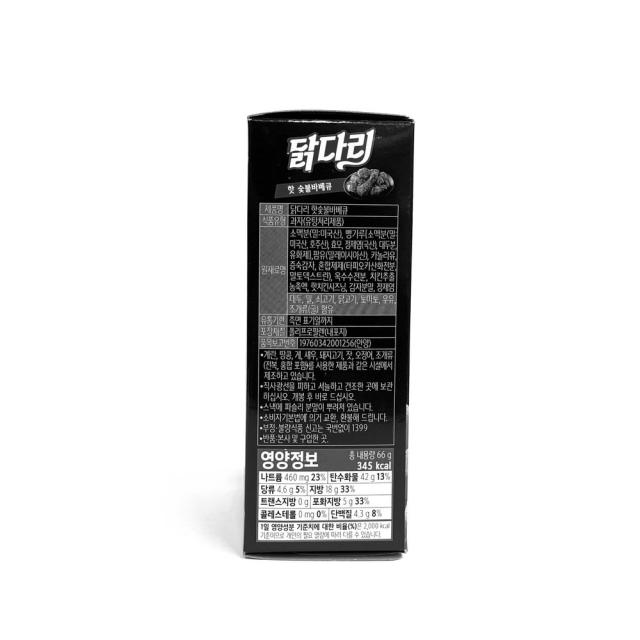Nutrition Label: (250, 441, 399, 547)
